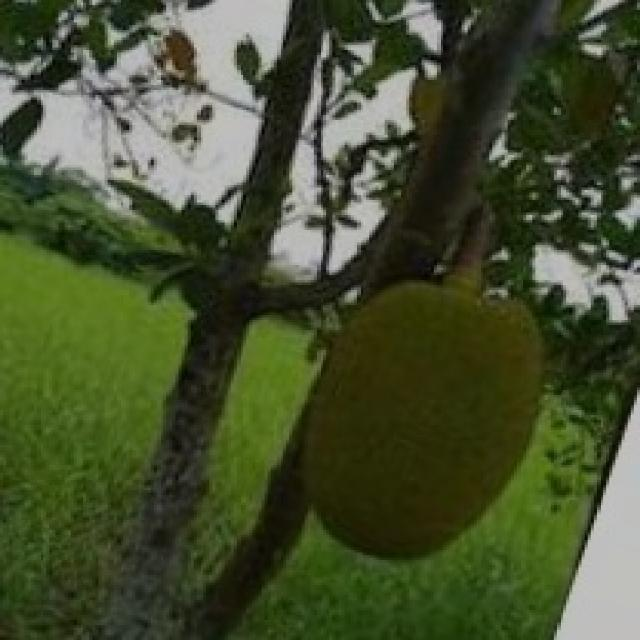Fruit: (0, 197, 292, 627), (255, 252, 588, 600)
